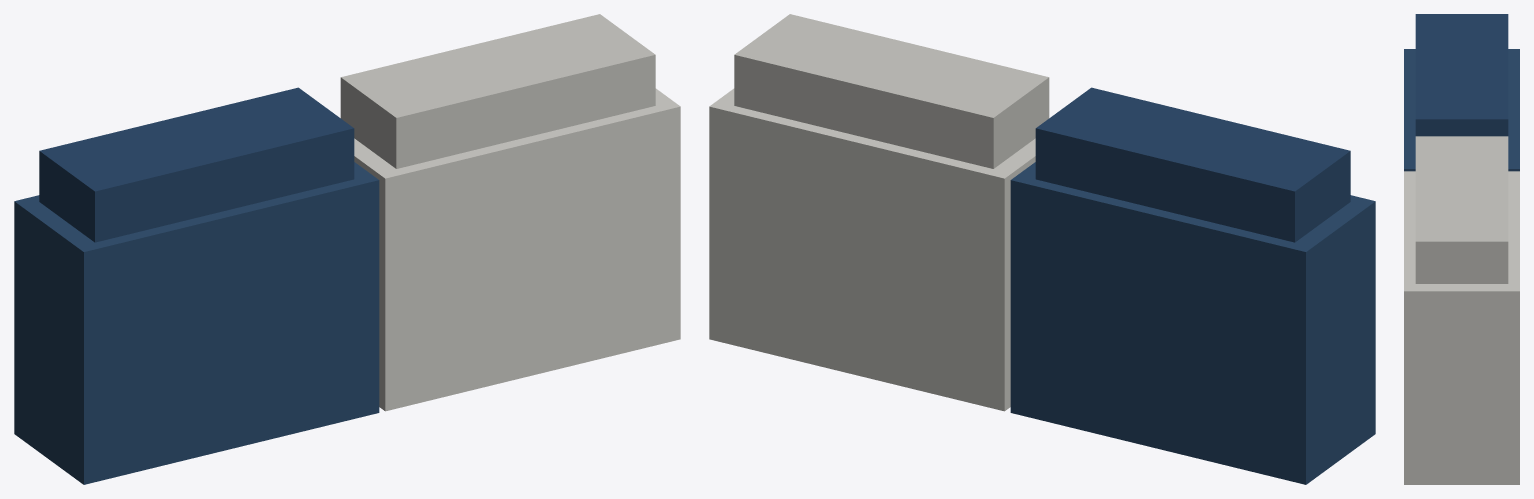
The model's file is barrier_plastic_navy_white_01.glb.
The picture shows the model from 3 angles, left to right: view 1: azimuth 30°, elevation 25°; view 2: azimuth 150°, elevation 25°; view 3: azimuth 270°, elevation 25°; orthographic projection. The views are drawn at different scales.
Parts seen in each view (by area): view 1: barrier_plastic_navy_white_01; view 2: barrier_plastic_navy_white_01; view 3: barrier_plastic_navy_white_01.
Part boxes in pixels (bbox=[...]): barrier_plastic_navy_white_01: bbox=[14, 14, 680, 484]; barrier_plastic_navy_white_01: bbox=[709, 14, 1375, 484]; barrier_plastic_navy_white_01: bbox=[1404, 14, 1519, 484].
Size of the model in its own units: 1.98 by 0.9 by 0.4.
